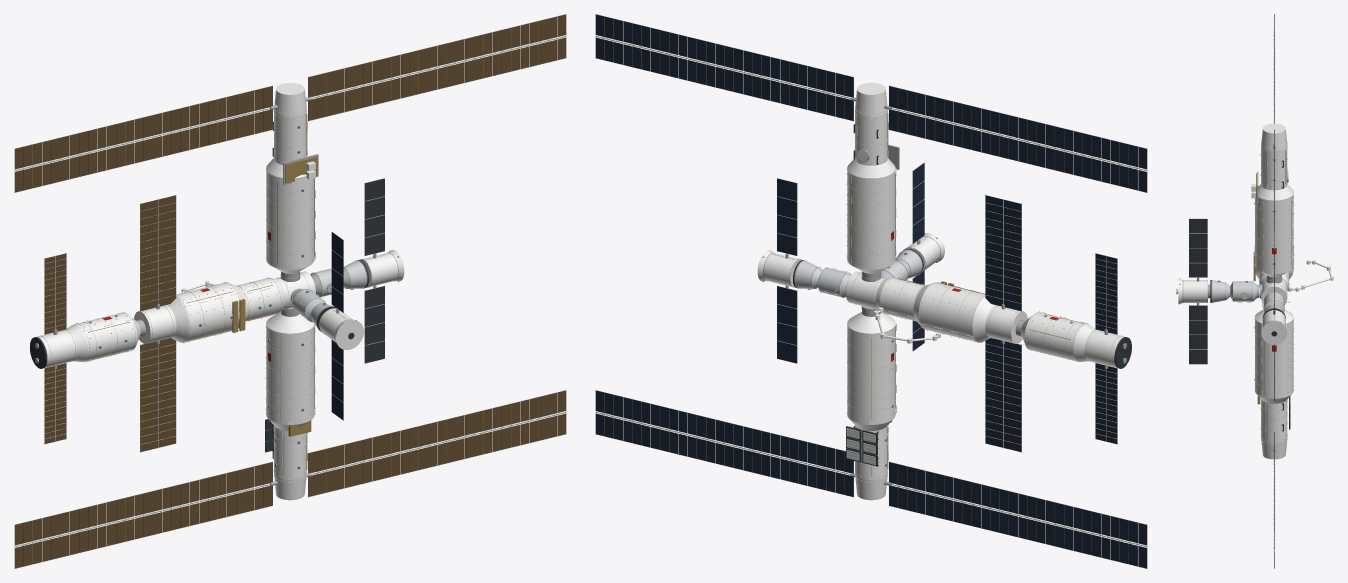
The model's file is tiangong.glb.
3 renders of one model, left to right at view 1: azimuth 30°, elevation 25°; view 2: azimuth 150°, elevation 25°; view 3: azimuth 270°, elevation 25°, orthographic. The views are drawn at different scales.
Parts seen in each view (by area): view 1: Mengtian / Work cabin, Wentian / Work cabin, Tianhe / Large crew cabin, Tianzhou / Pressurised cargo, Mengtian / Equipment section, Wentian / Equipment section, Tianhe / Small crew cabin, Tianhe / Resource section, Tianzhou / Propulsion section, Wentian / Resource tail, Atlas CSS Shenzhou front / Propulsion module, Mengtian / Transfer cone; view 2: Wentian / Work cabin, Mengtian / Work cabin, Tianhe / Large crew cabin, Tianzhou / Pressurised cargo, Wentian / Equipment section, Tianhe / Small crew cabin, Tianhe / Resource section, Tianzhou / Propulsion section, Wentian / Resource tail, Mengtian / Equipment section, Tianhe / Docking node, Atlas CSS Shenzhou front / Propulsion module (+1 smaller); view 3: Wentian / Work cabin, Mengtian / Work cabin, Atlas CSS Shenzhou nadir / Solar leaf rear (×8), Mengtian / Equipment section, Wentian / Equipment section, Wentian / Resource tail, Atlas CSS Shenzhou nadir / Propulsion module, Atlas CSS Shenzhou front / Propulsion aft skirt, Mengtian / Resource tail, Wentian / Service shoulder, Tianhe / Docking node, Atlas CSS Shenzhou nadir / Orbital cabin (+2 smaller).
Part boxes in pixels (box(x1,y1,x2,y2)): Mengtian / Work cabin: box(266, 324, 314, 424); Wentian / Work cabin: box(266, 170, 314, 269); Tianhe / Large crew cabin: box(176, 282, 240, 342); Tianzhou / Pressurised cargo: box(75, 312, 137, 361); Mengtian / Equipment section: box(274, 426, 306, 479); Wentian / Equipment section: box(274, 111, 306, 164); Tianhe / Small crew cabin: box(236, 278, 282, 321); Tianhe / Resource section: box(134, 305, 176, 343); Tianzhou / Propulsion section: box(37, 329, 77, 367); Wentian / Resource tail: box(274, 82, 306, 116); Atlas CSS Shenzhou front / Propulsion module: box(360, 253, 398, 287); Mengtian / Transfer cone: box(266, 312, 314, 333); Wentian / Work cabin: box(847, 169, 895, 269); Mengtian / Work cabin: box(847, 324, 895, 424); Tianhe / Large crew cabin: box(918, 282, 987, 341); Tianzhou / Pressurised cargo: box(1024, 312, 1086, 361); Wentian / Equipment section: box(855, 111, 887, 165); Tianhe / Small crew cabin: box(879, 277, 925, 320); Tianhe / Resource section: box(985, 305, 1027, 343); Tianzhou / Propulsion section: box(1084, 329, 1124, 367); Wentian / Resource tail: box(855, 82, 887, 116); Mengtian / Equipment section: box(855, 426, 887, 479); Tianhe / Docking node: box(846, 271, 886, 309); Atlas CSS Shenzhou front / Propulsion module: box(763, 253, 801, 287); Wentian / Work cabin: box(1255, 194, 1293, 273); Mengtian / Work cabin: box(1255, 319, 1293, 398); Atlas CSS Shenzhou nadir / Solar leaf rear (×8): box(1189, 219, 1207, 363); Mengtian / Equipment section: box(1261, 399, 1287, 443); Wentian / Equipment section: box(1261, 145, 1287, 190); Wentian / Resource tail: box(1261, 123, 1287, 150); Atlas CSS Shenzhou nadir / Propulsion module: box(1182, 280, 1207, 302); Atlas CSS Shenzhou front / Propulsion aft skirt: box(1261, 320, 1287, 344); Mengtian / Resource tail: box(1261, 439, 1287, 459); Wentian / Service shoulder: box(1258, 184, 1293, 200); Tianhe / Docking node: box(1261, 277, 1287, 304); Atlas CSS Shenzhou nadir / Orbital cabin: box(1233, 281, 1252, 301).
Size of the model in its own units: 100 by 72.76 by 30.72.
15 materials, 9 textured.
